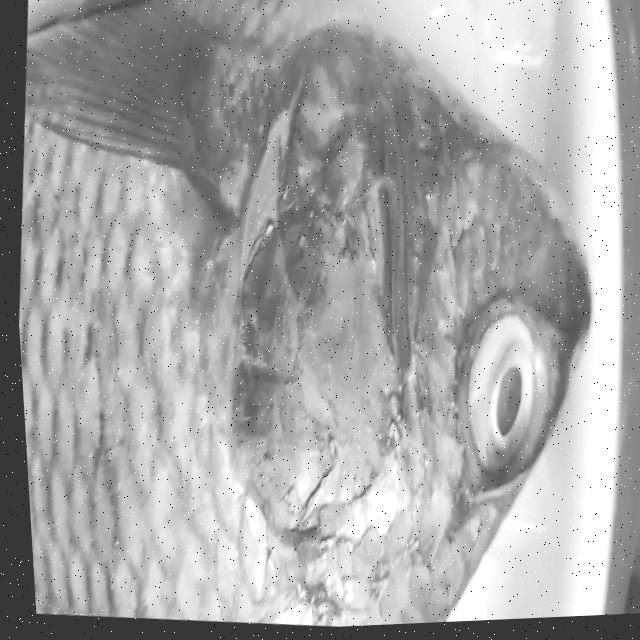Fresh: (3, 48, 402, 640), (426, 288, 578, 513)
